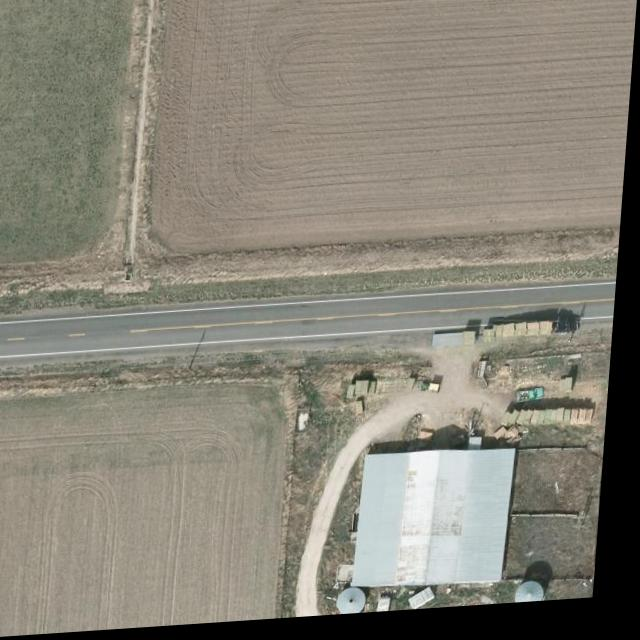vehicle: (498, 323, 588, 354), (519, 396, 552, 411)
